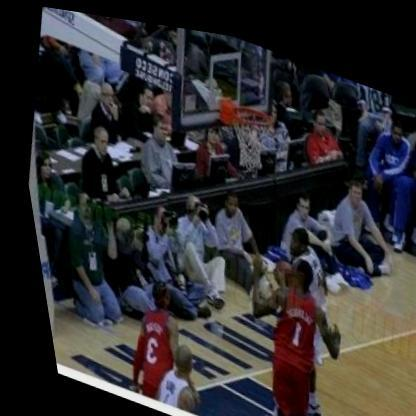basketball: (259, 247, 294, 283)
